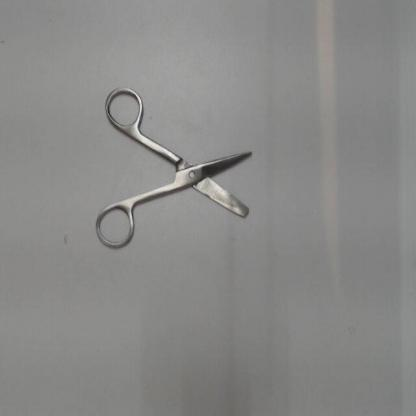Dressing Scissors: (88, 81, 264, 260)
